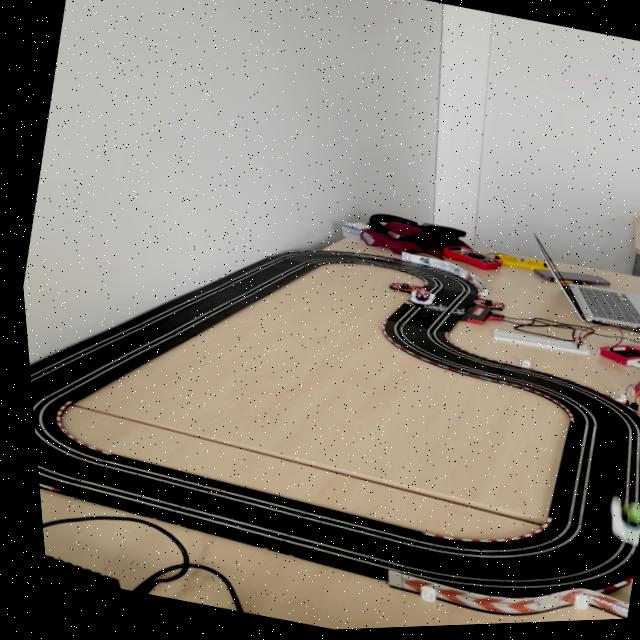mario: (402, 287, 434, 313)
yoshi: (588, 496, 638, 554)
